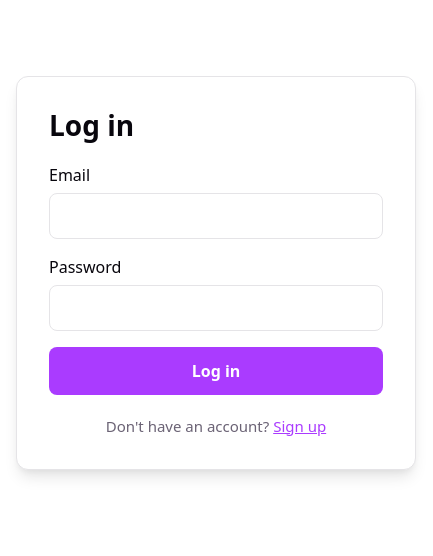
Scenario: auth journey › moves between the login and signup pages through their links
Click the link "Sign up" at (300, 426), box top-left (273, 416), bottom-right (326, 436)
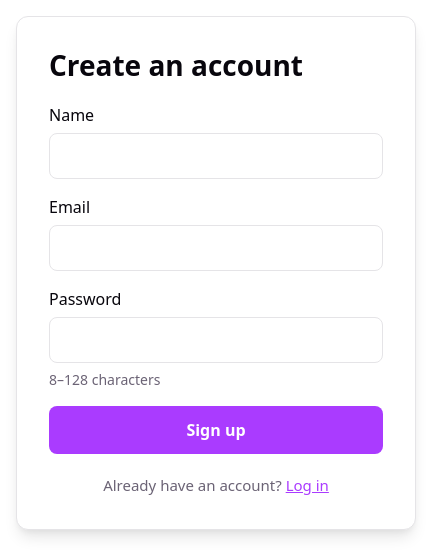
Expected: the heading "Create an account" is shown, top-left (49, 46), bottom-right (303, 84)
Click the link "Log in" at (307, 485), box top-left (286, 475), bottom-right (329, 495)
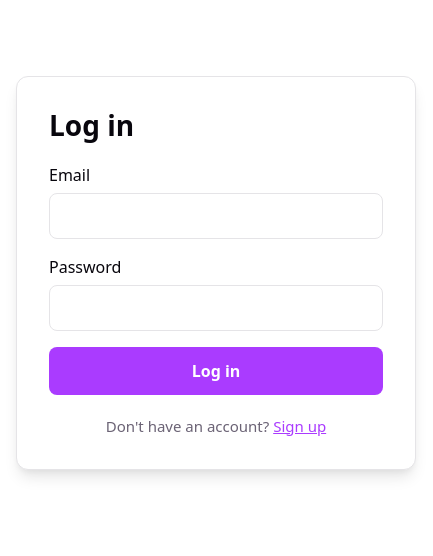
Expected: the heading "Log in" is shown, top-left (49, 106), bottom-right (134, 144)
